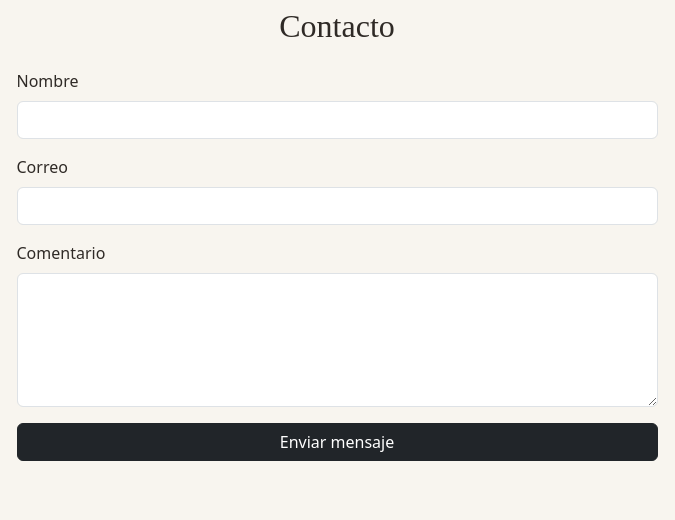
Test: Integrante 3 - Contacto y administración › 8. El formulario de contacto muestra validaciones en el DOM
Click the button "Enviar mensaje". click: [337, 442]
box: [16,423,658,461]
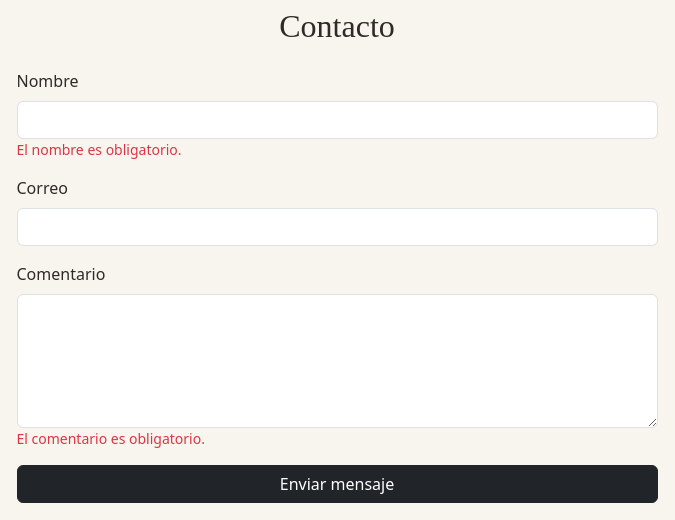
Now the text "El nombre es obligatorio." is shown, box [16,140,182,159]
Now the text "El comentario es obligatorio." is shown, box [16,429,205,448]
